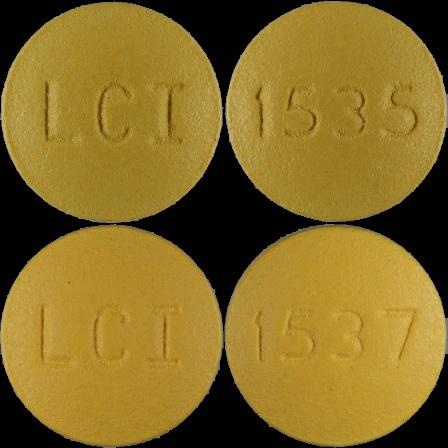0527-1535: (0, 0, 224, 224)
